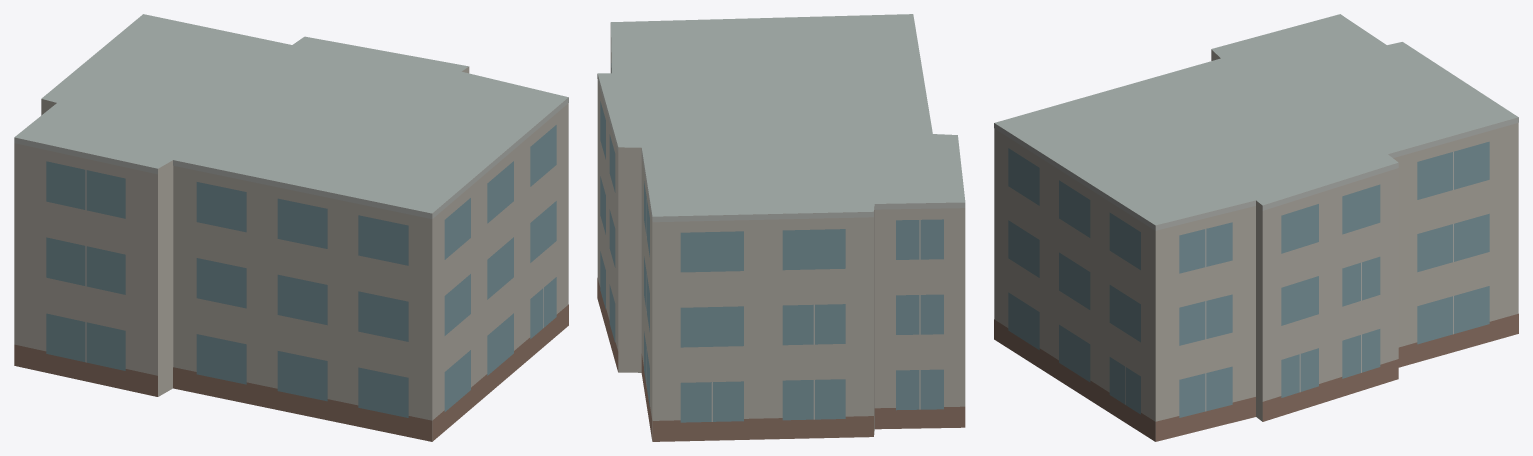
The model's file is survey-upis-33017026.glb.
The picture shows the model from 3 angles, left to right: view 1: azimuth 30°, elevation 25°; view 2: azimuth 150°, elevation 25°; view 3: azimuth 270°, elevation 25°; orthographic projection. The views are drawn at different scales.
Parts seen in each view (by area): view 1: survey-upis-33017026.tmp; view 2: survey-upis-33017026.tmp; view 3: survey-upis-33017026.tmp.
Boxes of the visible parts, x1=… form: survey-upis-33017026.tmp: x1=14, y1=14, x2=568, y2=441; survey-upis-33017026.tmp: x1=597, y1=14, x2=965, y2=441; survey-upis-33017026.tmp: x1=994, y1=14, x2=1518, y2=441.
Bounding box in the file's own units: 20.54 × 9.8 × 21.53.
